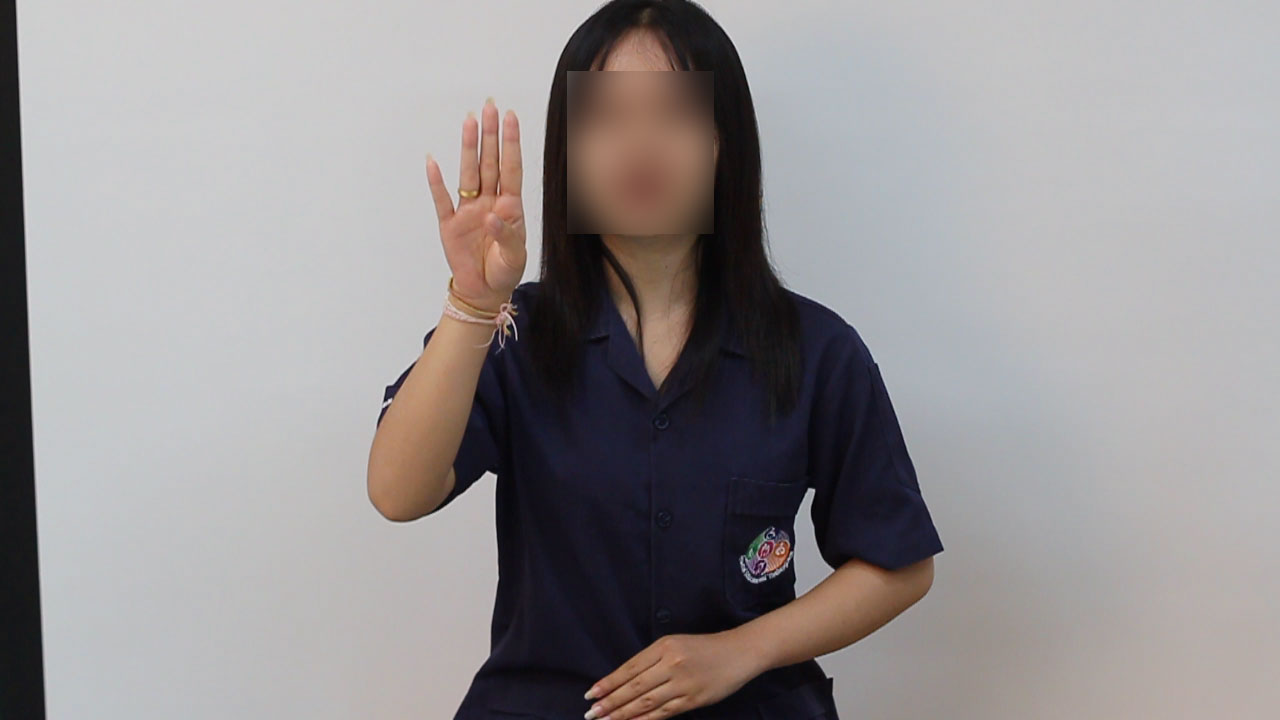bor: (416, 82, 542, 340)
